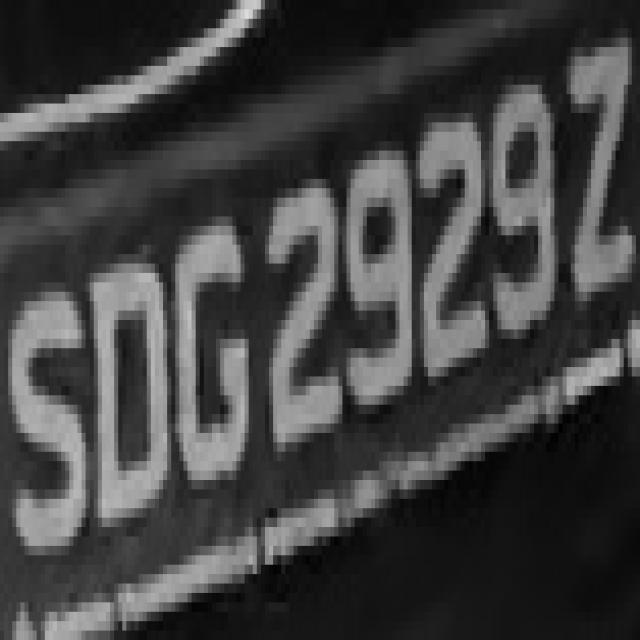2: (252, 179, 346, 499), (408, 104, 497, 424)
9: (326, 113, 416, 442), (481, 94, 571, 358)
D: (74, 235, 172, 574)
G: (179, 198, 265, 518)
S: (8, 254, 82, 602)
Z: (4, 0, 4, 5)
